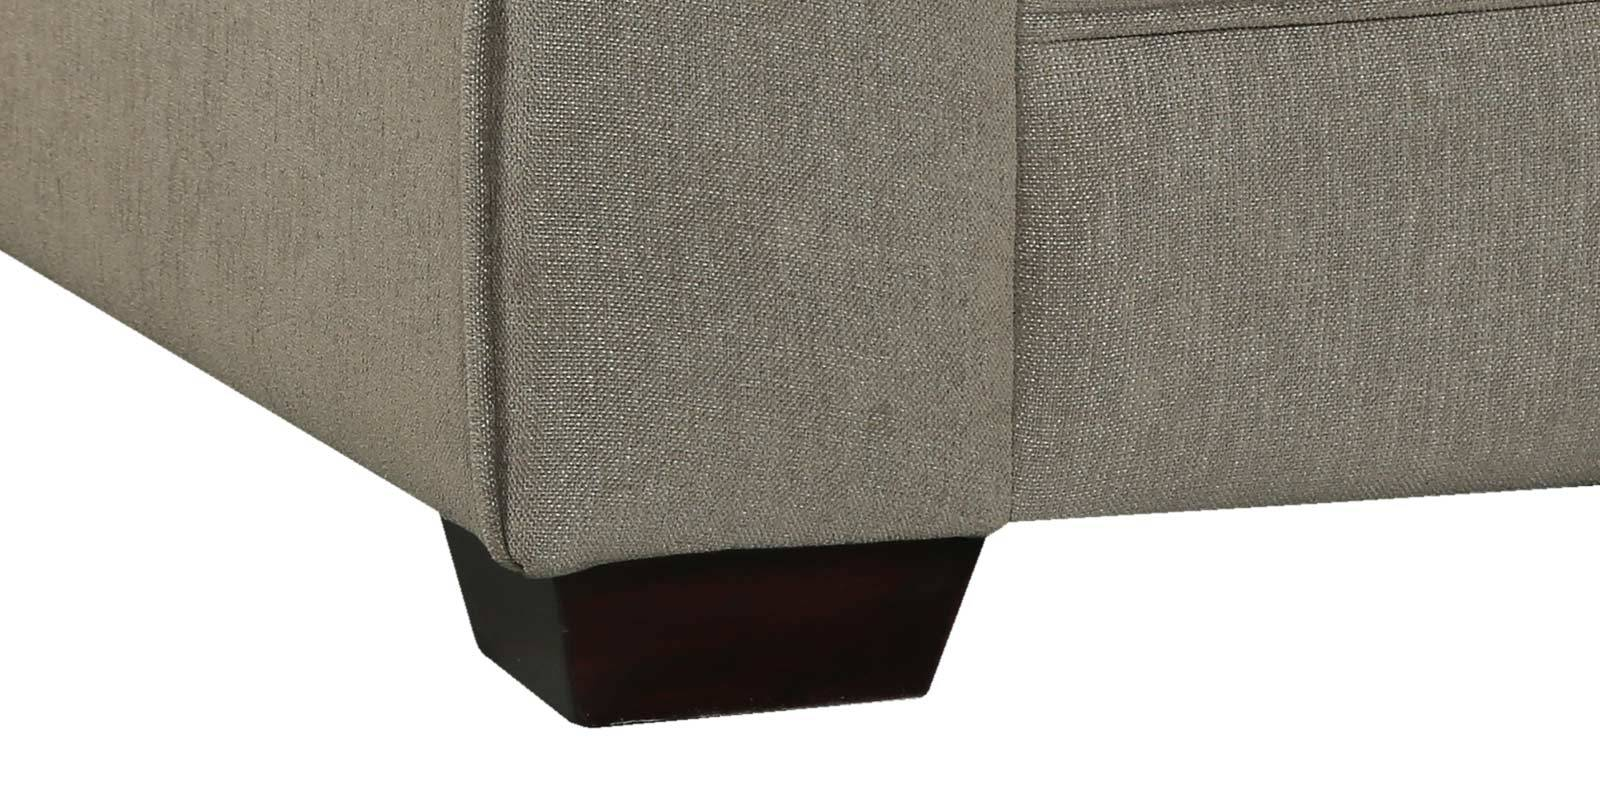Madeira Three Seater Sofa in Sandy Brown Colour by CasaCraft: (2, 1, 1600, 729)
